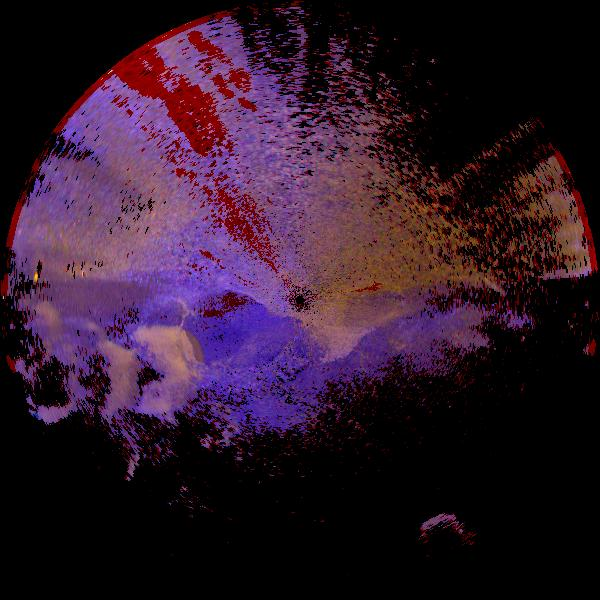roost: (88, 298, 226, 436), (31, 312, 163, 444), (390, 492, 492, 594)
